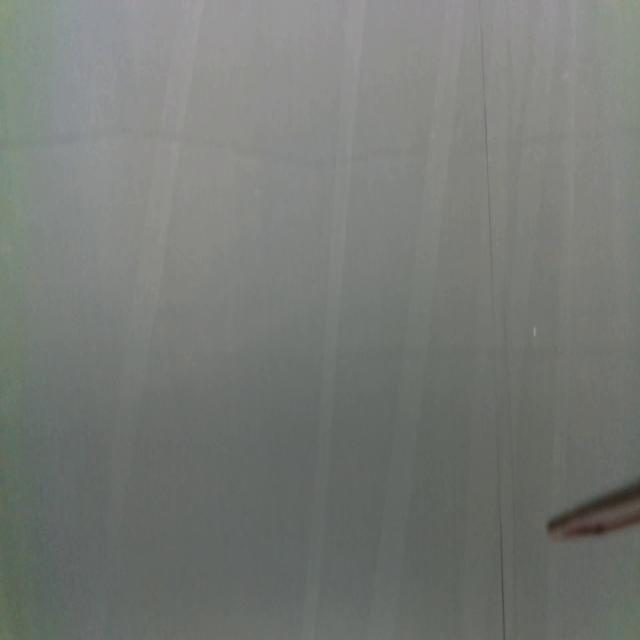color bleeding: (0, 118, 640, 172), (187, 328, 640, 374)
crease: (367, 0, 466, 627), (112, 0, 206, 484), (303, 1, 370, 640), (480, 24, 508, 640), (550, 0, 581, 510)
